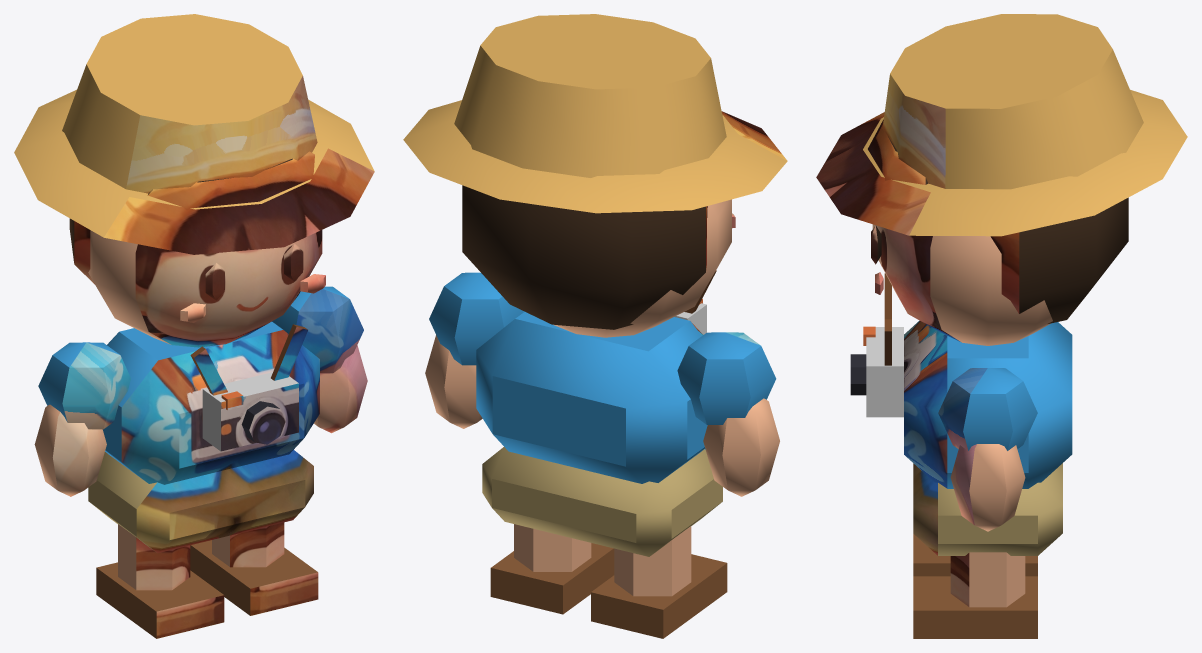
File: guest_01.glb
The picture shows the model from 3 angles, left to right: view 1: azimuth 30°, elevation 25°; view 2: azimuth 150°, elevation 25°; view 3: azimuth 270°, elevation 25°; orthographic projection. The views are drawn at different scales.
Parts seen in each view (by area): view 1: guest_01; view 2: guest_01; view 3: guest_01.
Boxes of the visible parts, <box> form: guest_01: <box>14,14,374,638</box>; guest_01: <box>403,14,787,638</box>; guest_01: <box>816,14,1187,638</box>.
Bounding box in the file's own units: 0.2799 × 0.45 × 0.2761.
13 materials, 1 textured.
